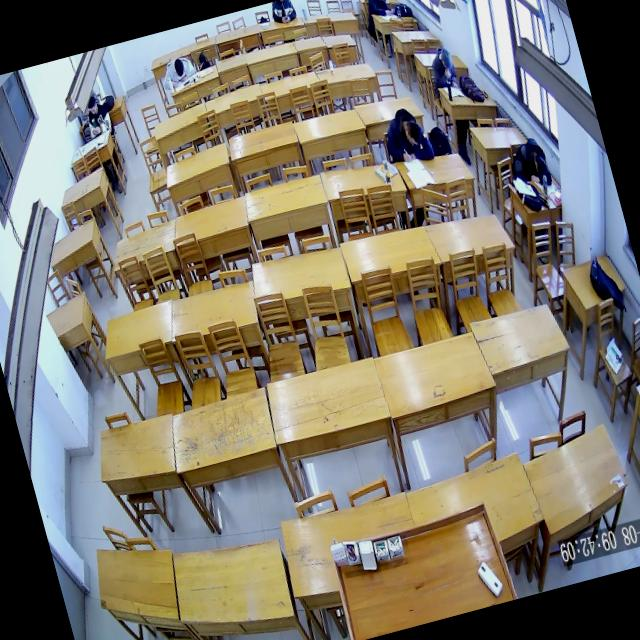bow: (378, 103, 435, 170), (506, 134, 553, 193), (158, 55, 198, 91)
down: (402, 118, 424, 146), (439, 48, 453, 70), (85, 94, 98, 116), (172, 58, 186, 78)
sit: (80, 91, 116, 140), (426, 46, 460, 94), (363, 0, 395, 22)
